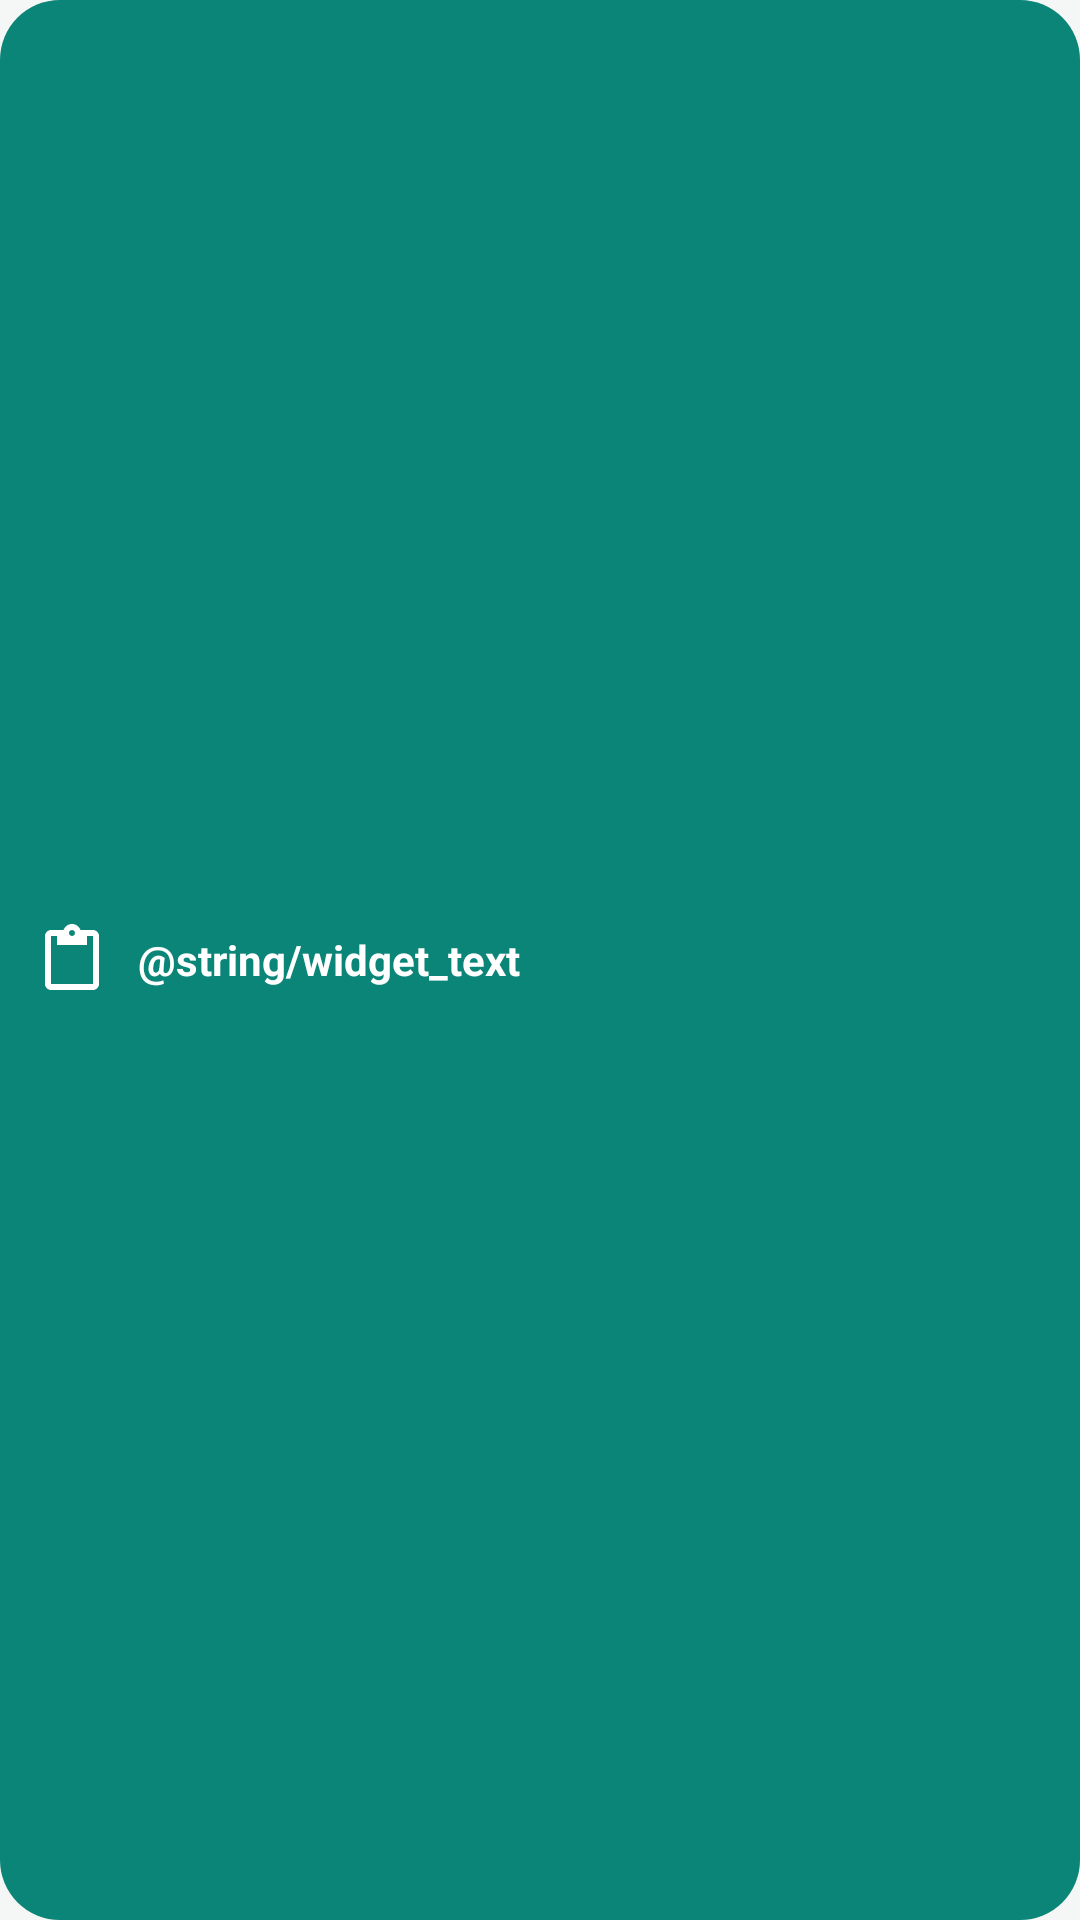

Screen size 1080x1920. Icon name, then its box in pixels as {"left": x1, "top": y1, "right": x2, "bottom": y2}:
clipboard: {"left": 45, "top": 924, "right": 99, "bottom": 990}
